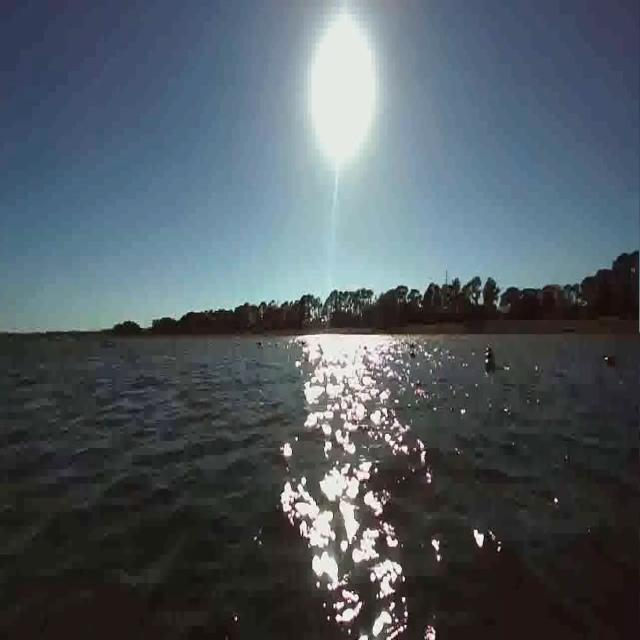red-buoy: (606, 354, 615, 366)
